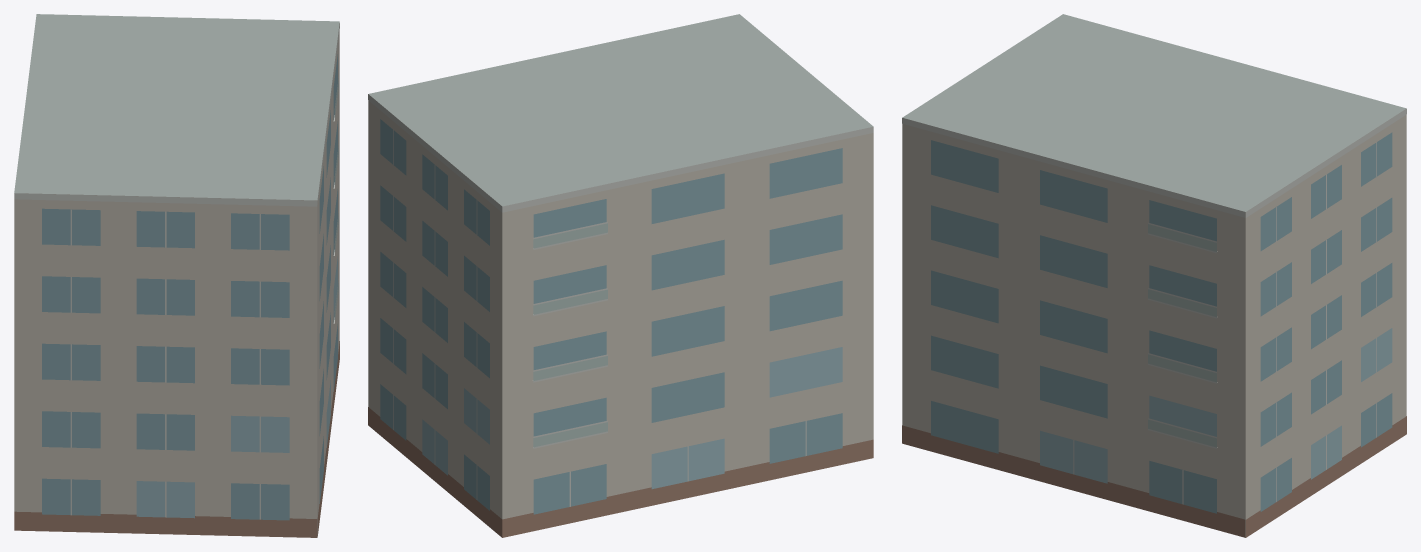
The model's file is survey-upis-32610239.glb.
3 views of the same model, side by side, from view 1: azimuth 30°, elevation 25°; view 2: azimuth 150°, elevation 25°; view 3: azimuth 270°, elevation 25° (orthographic). The views are drawn at different scales.
Visible parts, largest first — view 1: survey-upis-32610239.tmp; view 2: survey-upis-32610239.tmp; view 3: survey-upis-32610239.tmp.
Boxes of the visible parts, <box> form: survey-upis-32610239.tmp: <box>14,14,339,537</box>; survey-upis-32610239.tmp: <box>368,14,873,537</box>; survey-upis-32610239.tmp: <box>902,14,1406,537</box>.
Bounding box in the file's own units: 17.08 × 13.1 × 18.39.
